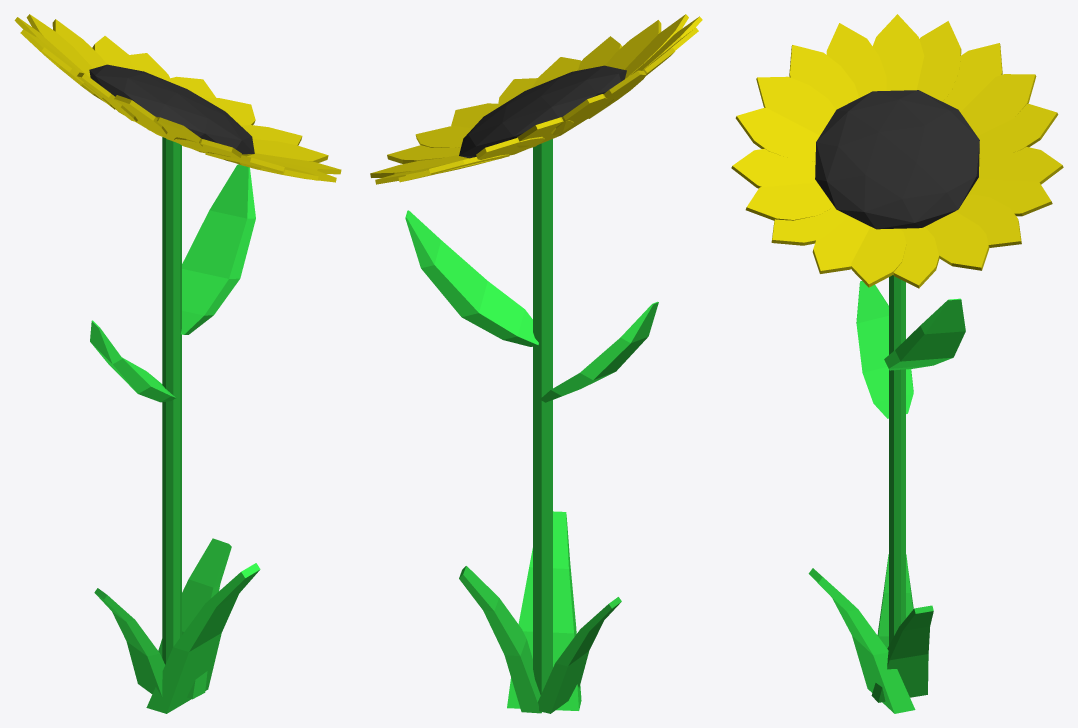
The model's file is sun flower 2.fbx.
The picture shows the model from 3 angles, left to right: view 1: azimuth 30°, elevation 25°; view 2: azimuth 150°, elevation 25°; view 3: azimuth 270°, elevation 25°; orthographic projection. The views are drawn at different scales.
Parts seen in each view (by area): view 1: Icosphere, Cube.001, Cube.006, Cube.004, Cube.003, Cube.002, Cube.005; view 2: Icosphere, Cube.001, Cube.006, Cube.004, Cube.003, Cube.002, Cube.005; view 3: Icosphere, Cube.001, Cube.005, Cube.004, Cube.006, Cube.003, Cube.002.
Part boxes in pixels (x1,y1,x2,y2): Icosphere: [14, 14, 341, 182]; Cube.001: [162, 137, 181, 664]; Cube.006: [181, 164, 255, 334]; Cube.004: [146, 563, 260, 713]; Cube.003: [158, 538, 231, 699]; Cube.002: [94, 588, 164, 696]; Cube.005: [90, 320, 175, 402]; Icosphere: [370, 14, 702, 184]; Cube.001: [533, 139, 552, 694]; Cube.006: [405, 210, 538, 346]; Cube.004: [507, 511, 581, 710]; Cube.003: [459, 566, 541, 713]; Cube.002: [537, 597, 621, 713]; Cube.005: [540, 301, 658, 402]; Icosphere: [731, 14, 1063, 288]; Cube.001: [889, 275, 905, 644]; Cube.005: [856, 281, 913, 418]; Cube.004: [808, 568, 915, 713]; Cube.006: [884, 298, 965, 370]; Cube.003: [871, 605, 933, 702]; Cube.002: [877, 554, 913, 648].
Bounding box in the file's own units: 101 × 240 × 115.
